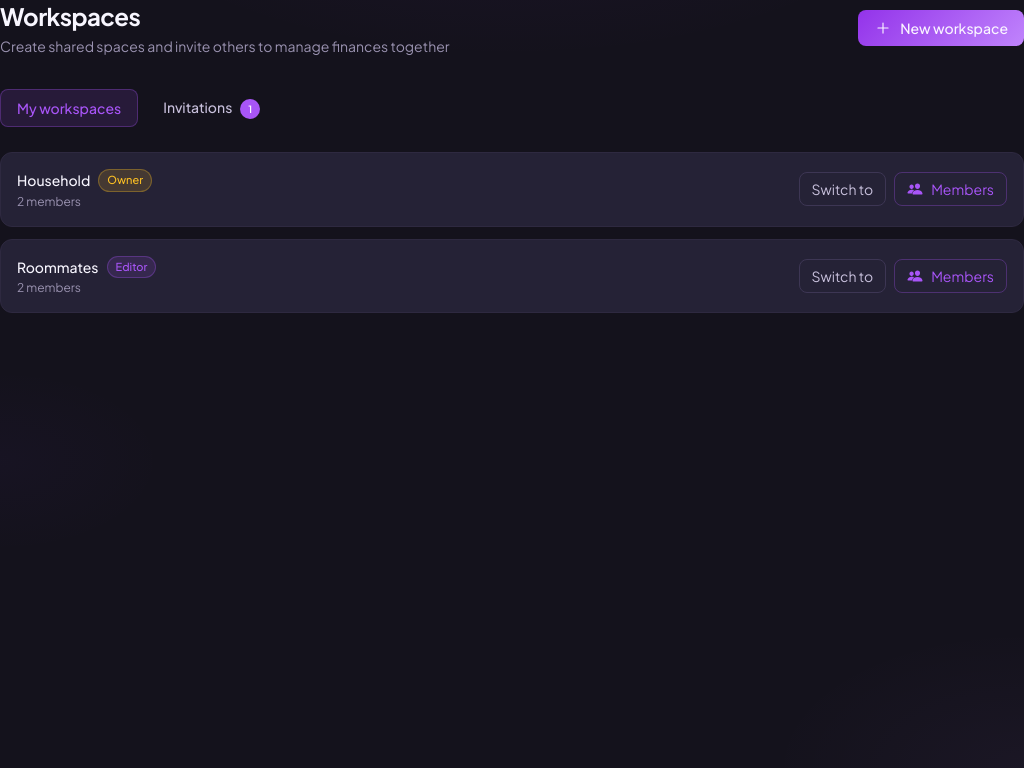
Test case: Workspaces - members modal role gating › hides the invite form and shows "leave workspace" for a non-owner member
expect the text "Roommates" is shown: met, box [17,257,98,277]
Click the button "Members" in the row of "Editor". click: [951, 276]
box: [894,259,1007,293]
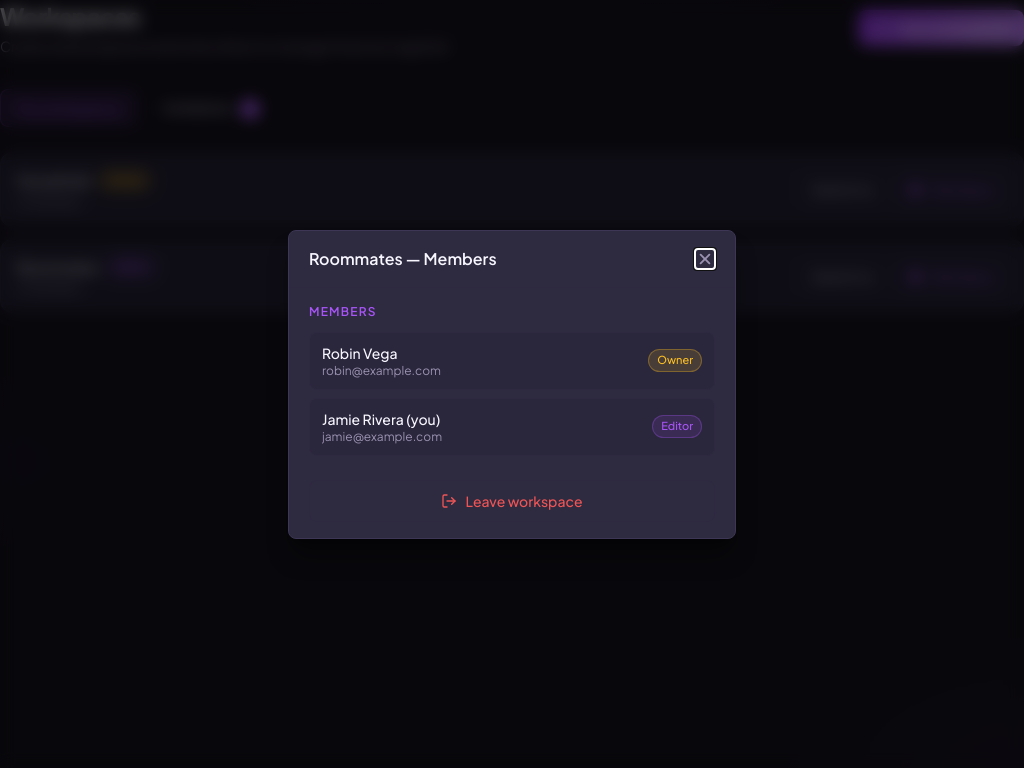
expect the button "Leave workspace" is shown: met, box [309,480,715,522]
